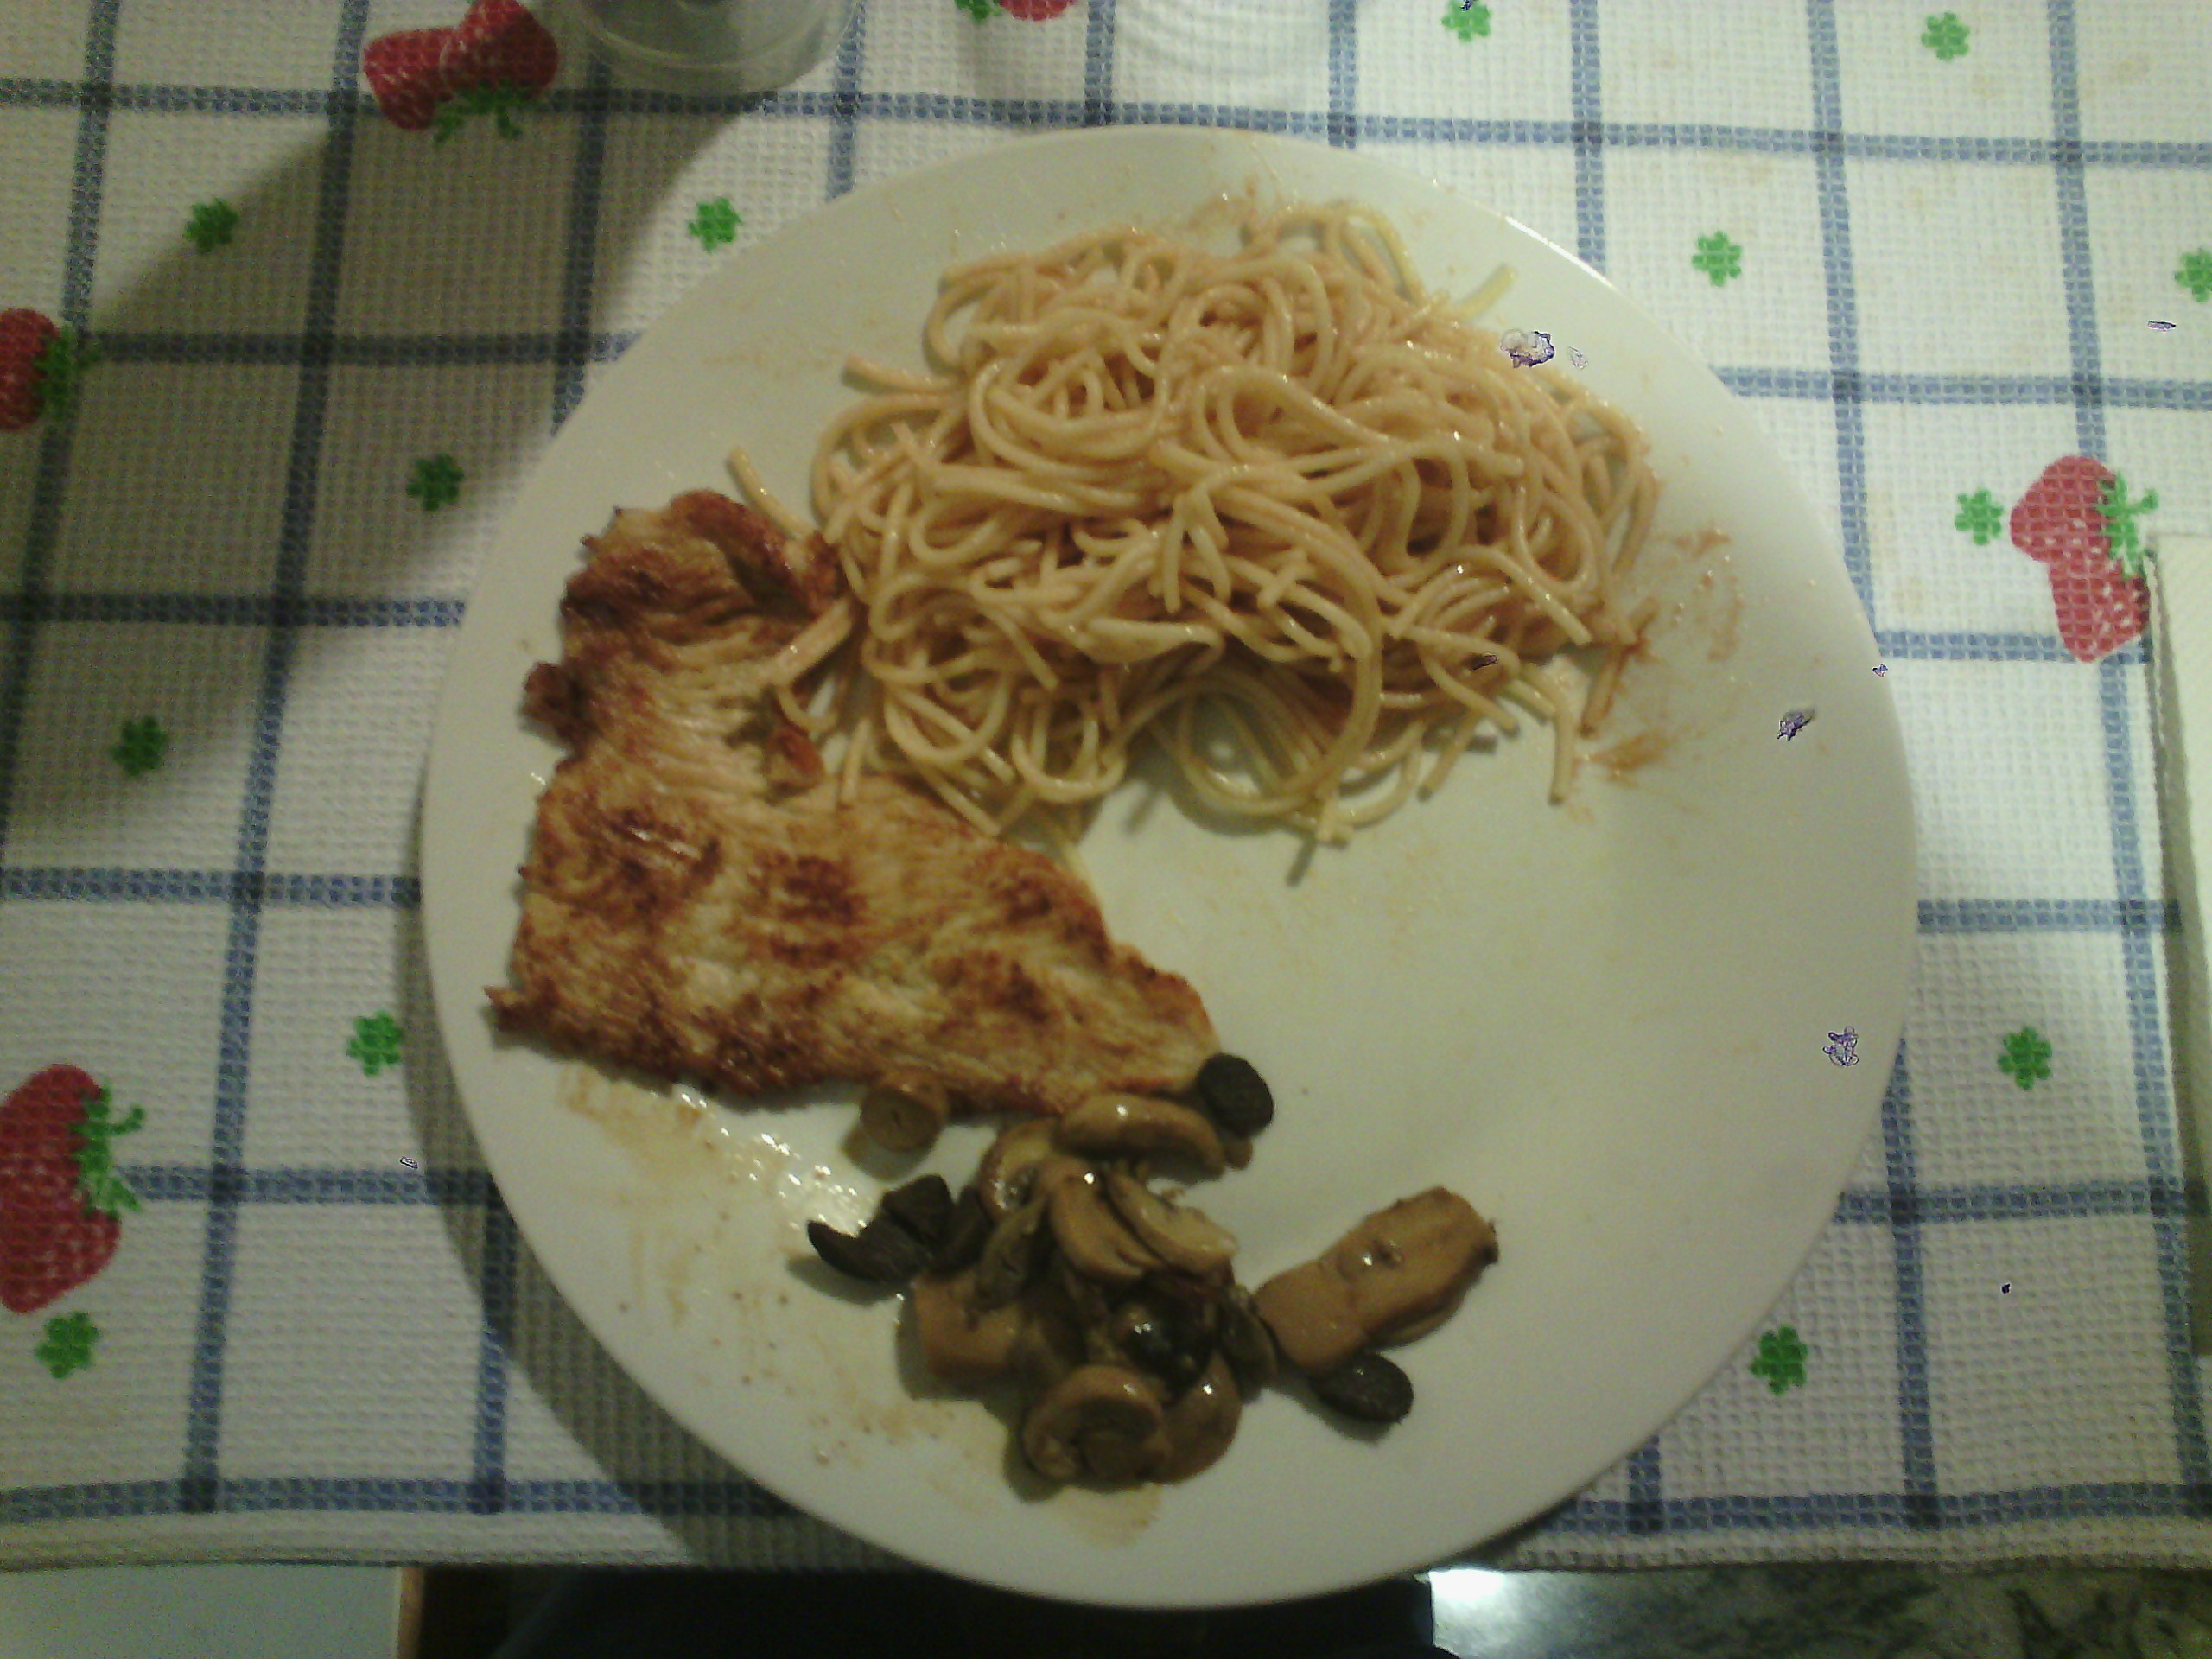61-80: (416, 122, 1918, 1615)
